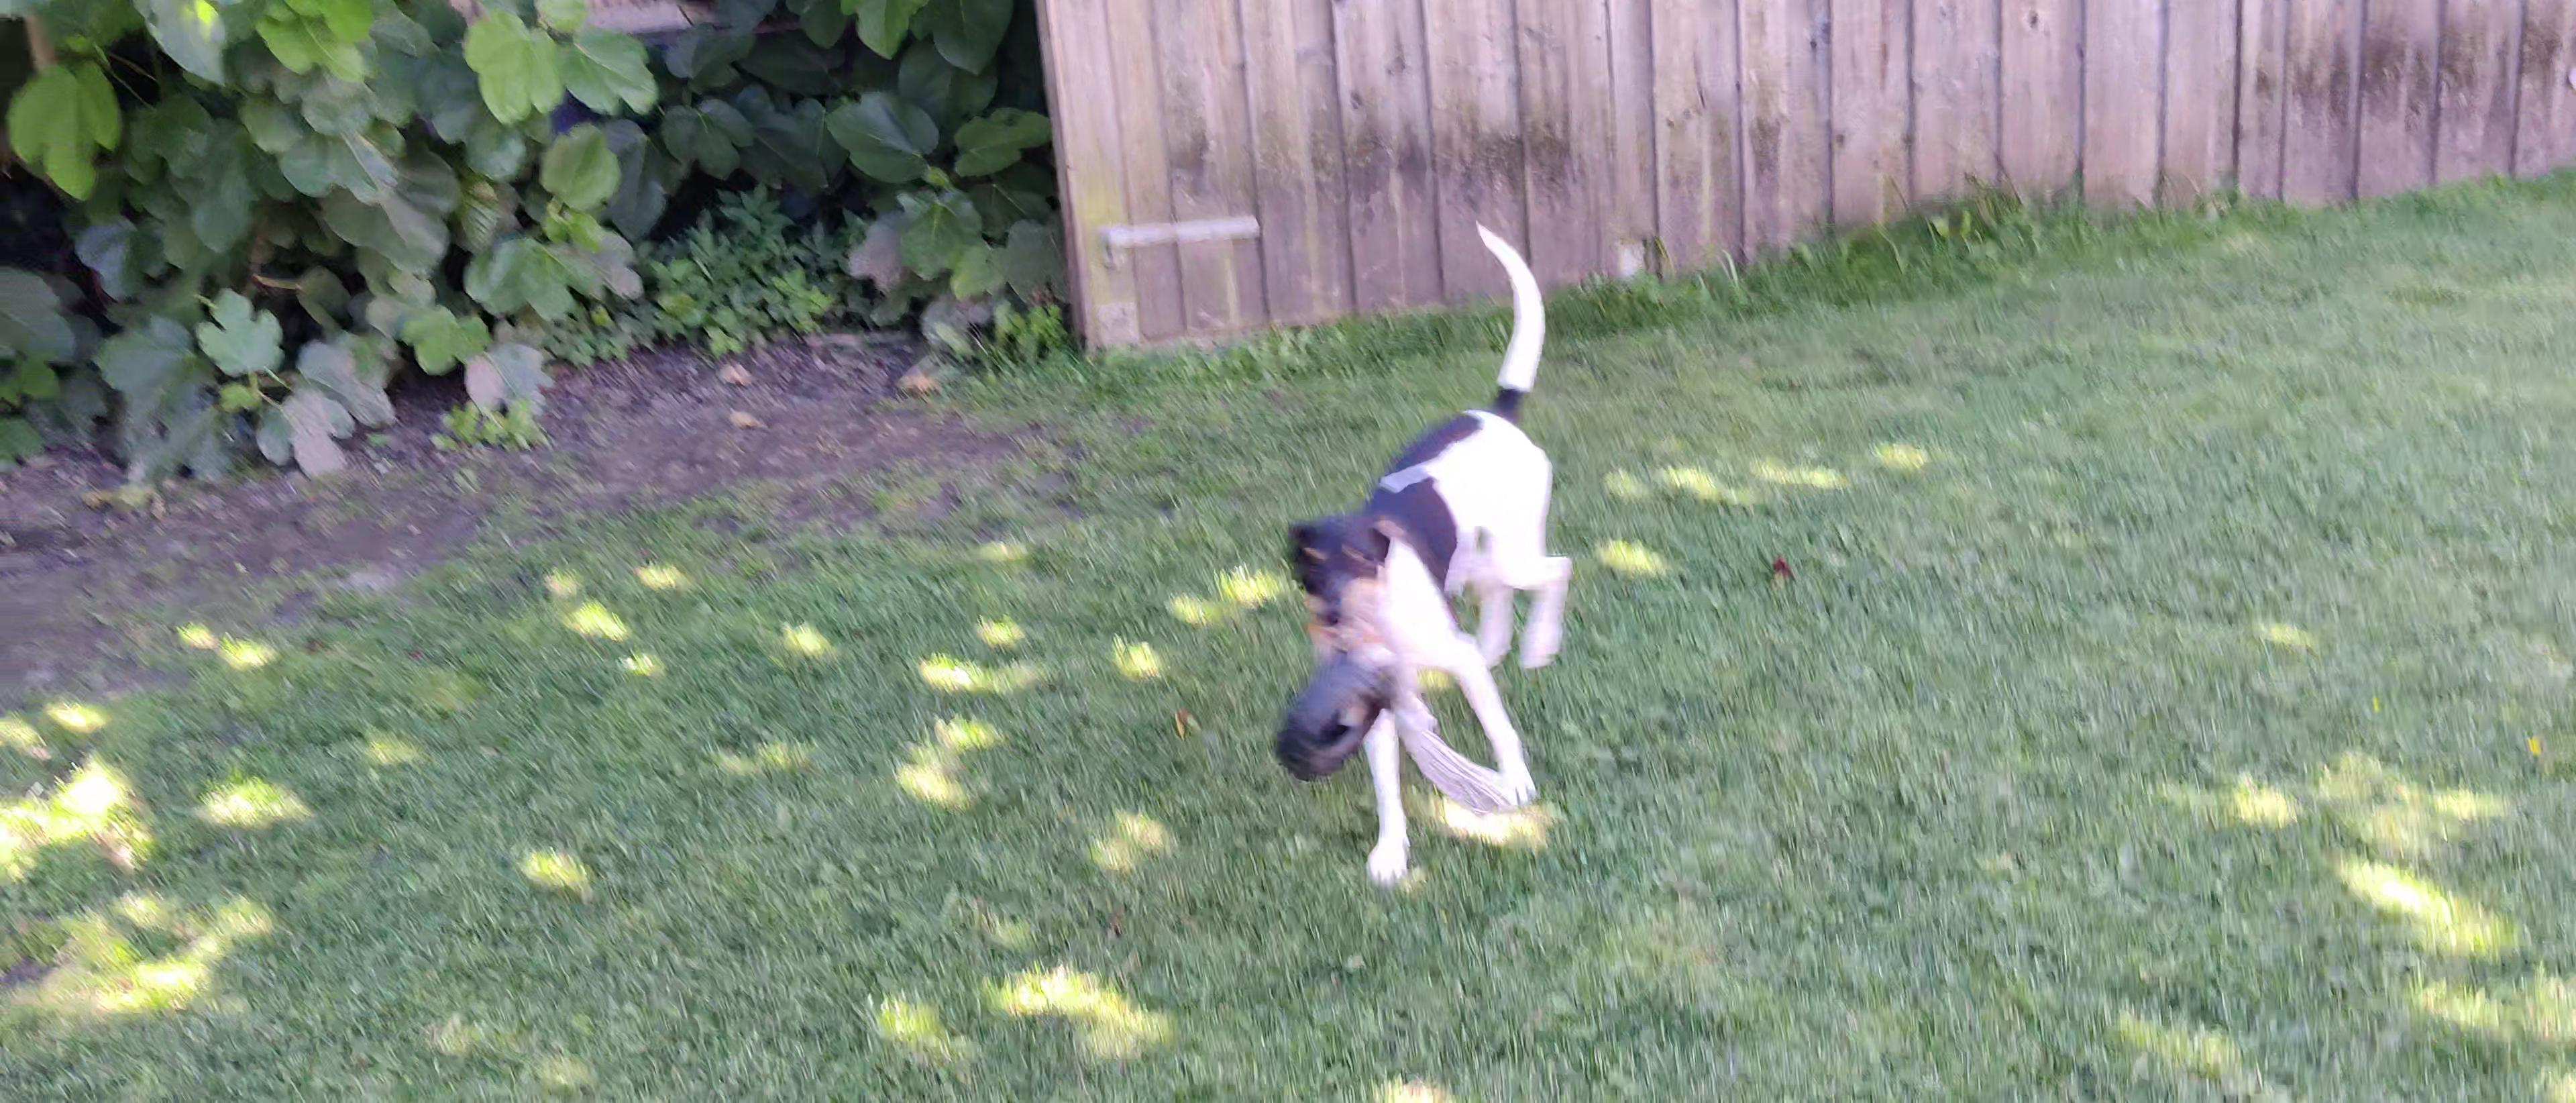Dog: (1252, 196, 1600, 911)
